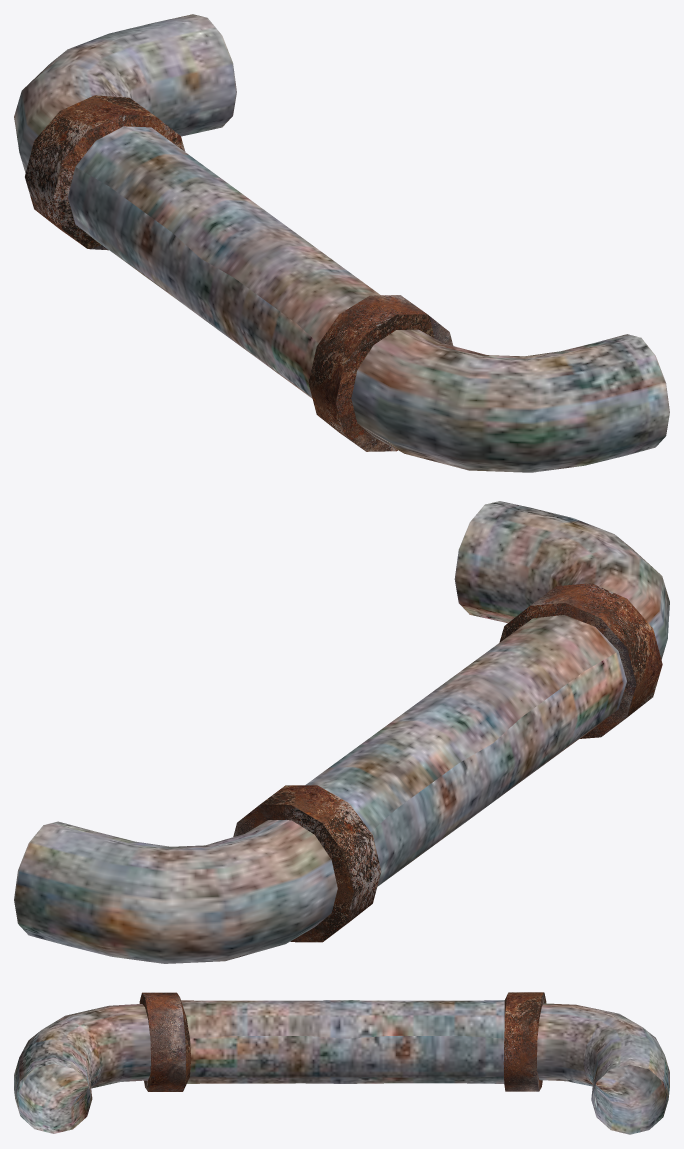
The model's file is TPE 1_FBX.fbx.
3 renders of one model, top to bottom at view 1: azimuth 30°, elevation 25°; view 2: azimuth 150°, elevation 25°; view 3: azimuth 270°, elevation 25°, orthographic. The views are drawn at different scales.
Visible parts, largest first — view 1: Tubería plataforma estática larga 1; view 2: Tubería plataforma estática larga 1; view 3: Tubería plataforma estática larga 1.
Part boxes in pixels (<box>): Tubería plataforma estática larga 1: <box>14,14,669,472</box>; Tubería plataforma estática larga 1: <box>14,501,669,963</box>; Tubería plataforma estática larga 1: <box>14,992,669,1134</box>.
Bounding box in the file's own units: 335 × 177 × 1171.
